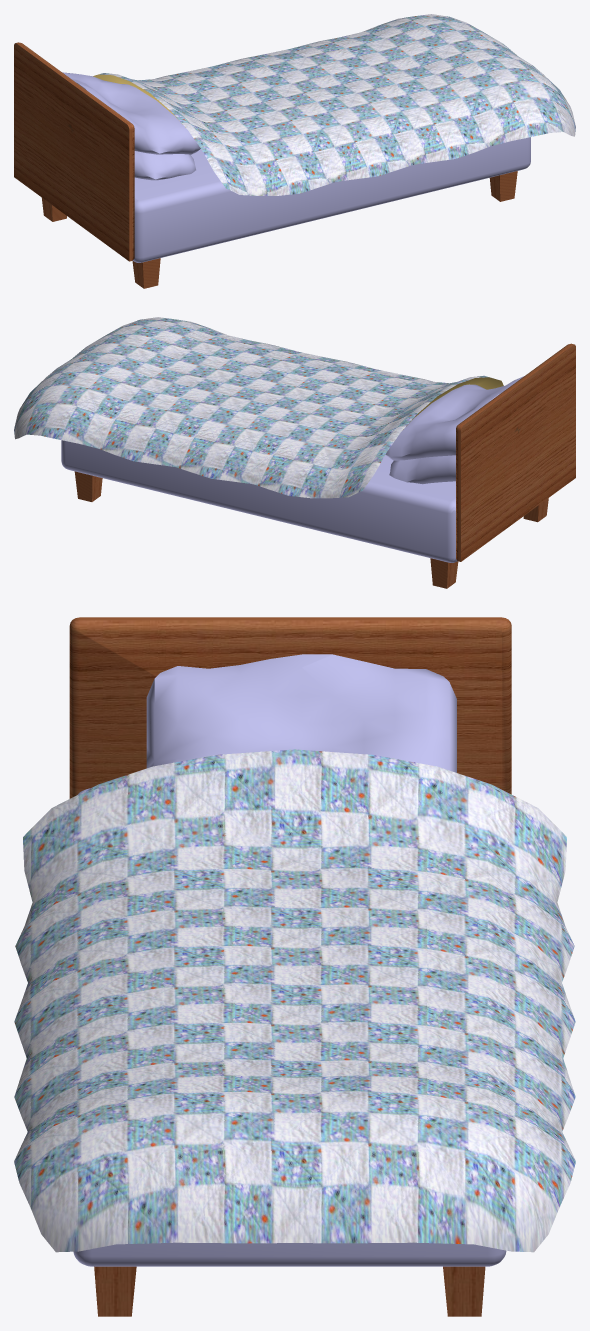
Rendered from single_bed.dae.
The picture shows the model from 3 angles, top to bottom: view 1: azimuth 30°, elevation 25°; view 2: azimuth 150°, elevation 25°; view 3: azimuth 270°, elevation 25°; orthographic projection. The views are drawn at different scales.
Parts seen in each view (by area): view 1: Component_41 (×8); view 2: Component_41 (×8); view 3: Component_41 (×6).
Part boxes in pixels (x1,y1,x2,y2): Component_41 (×8): (14, 14, 575, 288); Component_41 (×8): (14, 317, 575, 588); Component_41 (×6): (14, 617, 575, 1316).
Size of the model in its own units: 86.15 by 47.26 by 30.83.
Materials: 4 (2 with a texture image).
